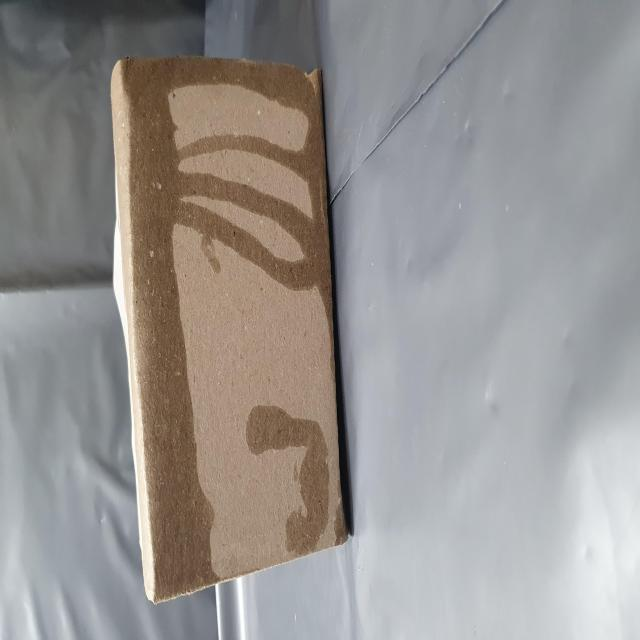wet: (31, 230, 325, 385)
